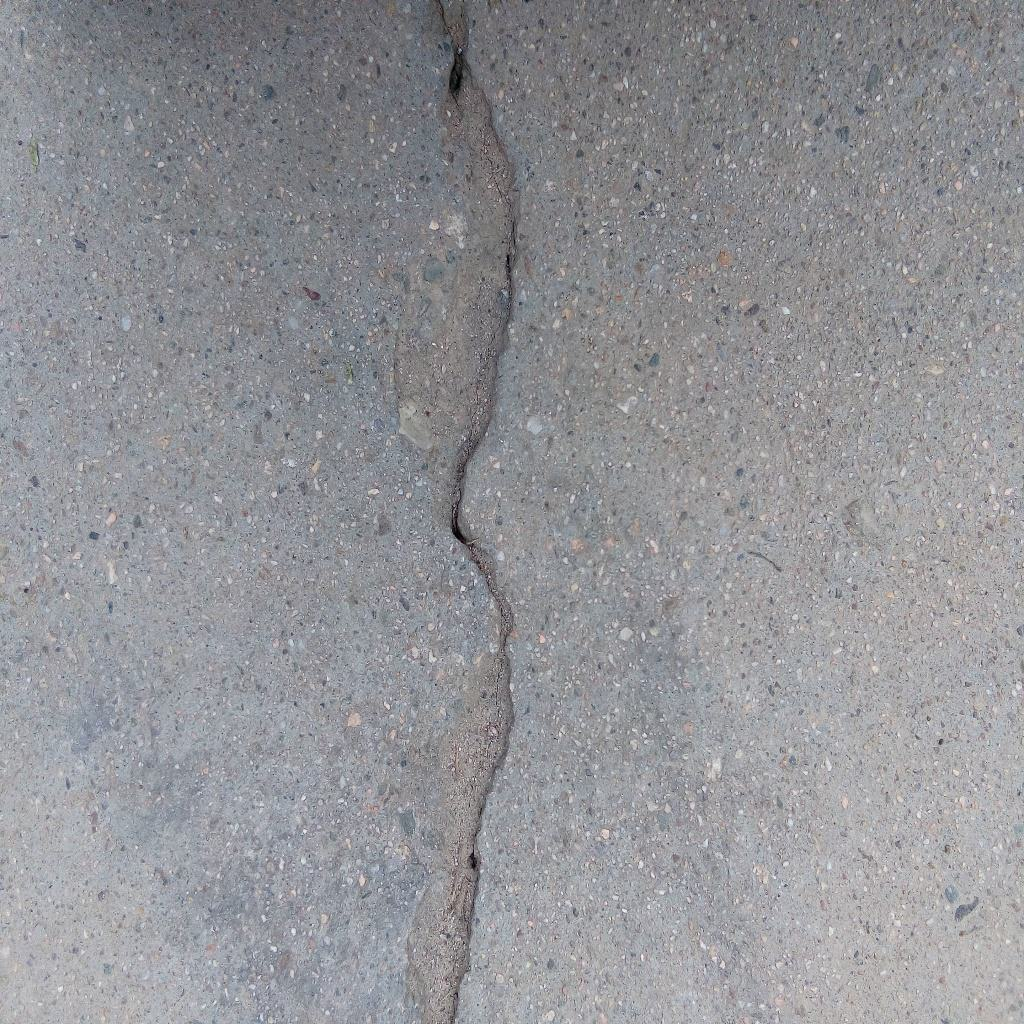Crack: (445, 1, 521, 1024)
